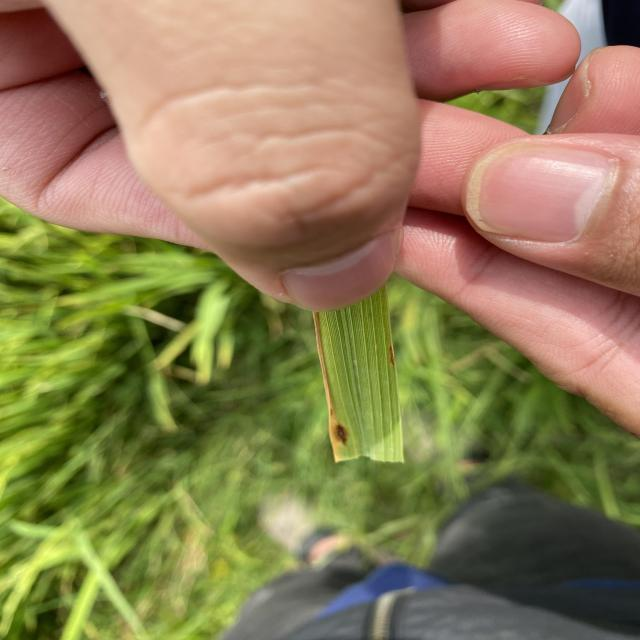Dom nau: (334, 422, 347, 446), (389, 345, 395, 366)
